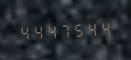five: (73, 19, 86, 38)
four: (31, 21, 44, 41), (87, 18, 100, 38), (17, 22, 30, 41), (45, 21, 58, 40), (101, 18, 114, 37)
seven: (59, 20, 72, 39)
